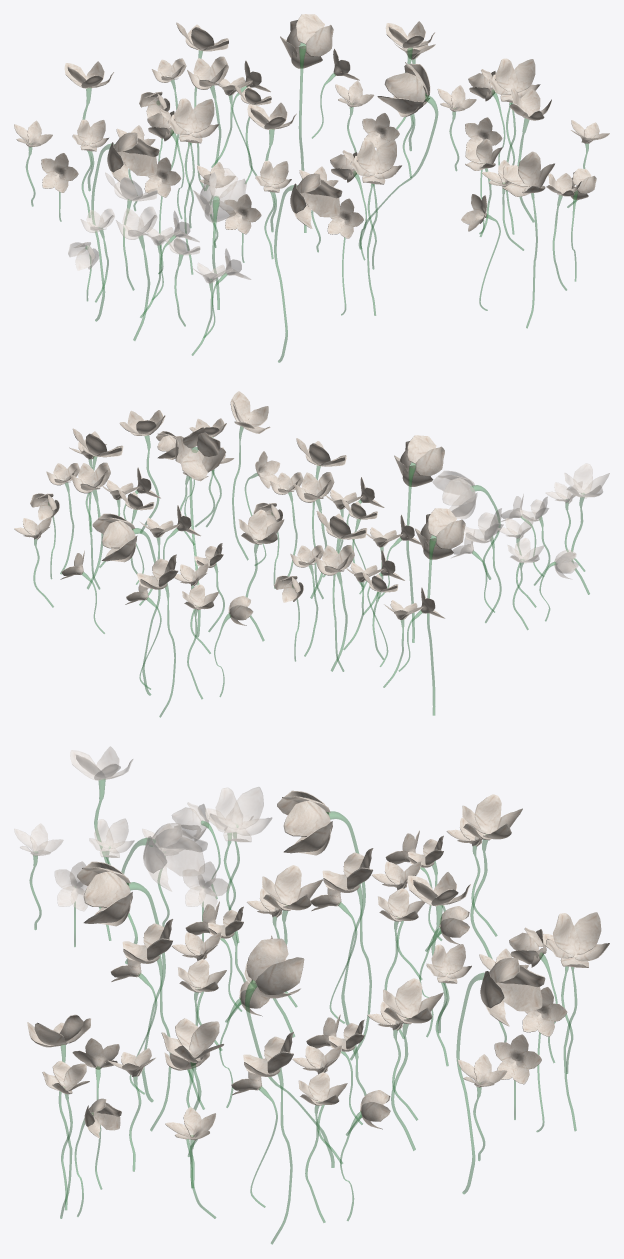
Rendered from flower.glb.
3 views of the same model, one above another, from view 1: azimuth 30°, elevation 25°; view 2: azimuth 150°, elevation 25°; view 3: azimuth 270°, elevation 25° (orthographic). The views are drawn at different scales.
Visible parts, largest first — view 1: textured.001, textured; view 2: textured.001, textured; view 3: textured.001, textured.
Part boxes in pixels (box(x1,y1,x2,y2)): textured.001: box(14, 14, 609, 362); textured: box(68, 168, 250, 355); textured.001: box(14, 391, 465, 717); textured: box(433, 463, 609, 629); textured.001: box(27, 790, 609, 1244); textured: box(14, 746, 271, 963).
Size of the model in its own units: 279 by 109 by 217.
4 materials, 4 textured.
